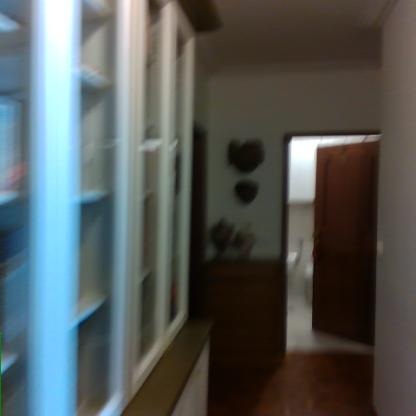semi: (276, 124, 393, 356)
